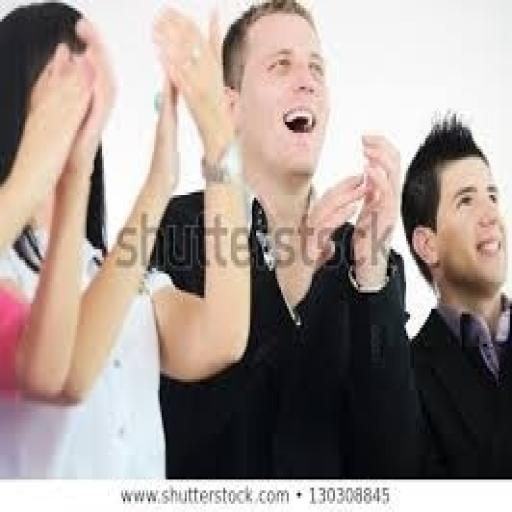clapping: (144, 0, 416, 477), (0, 0, 254, 477), (399, 111, 510, 480)
